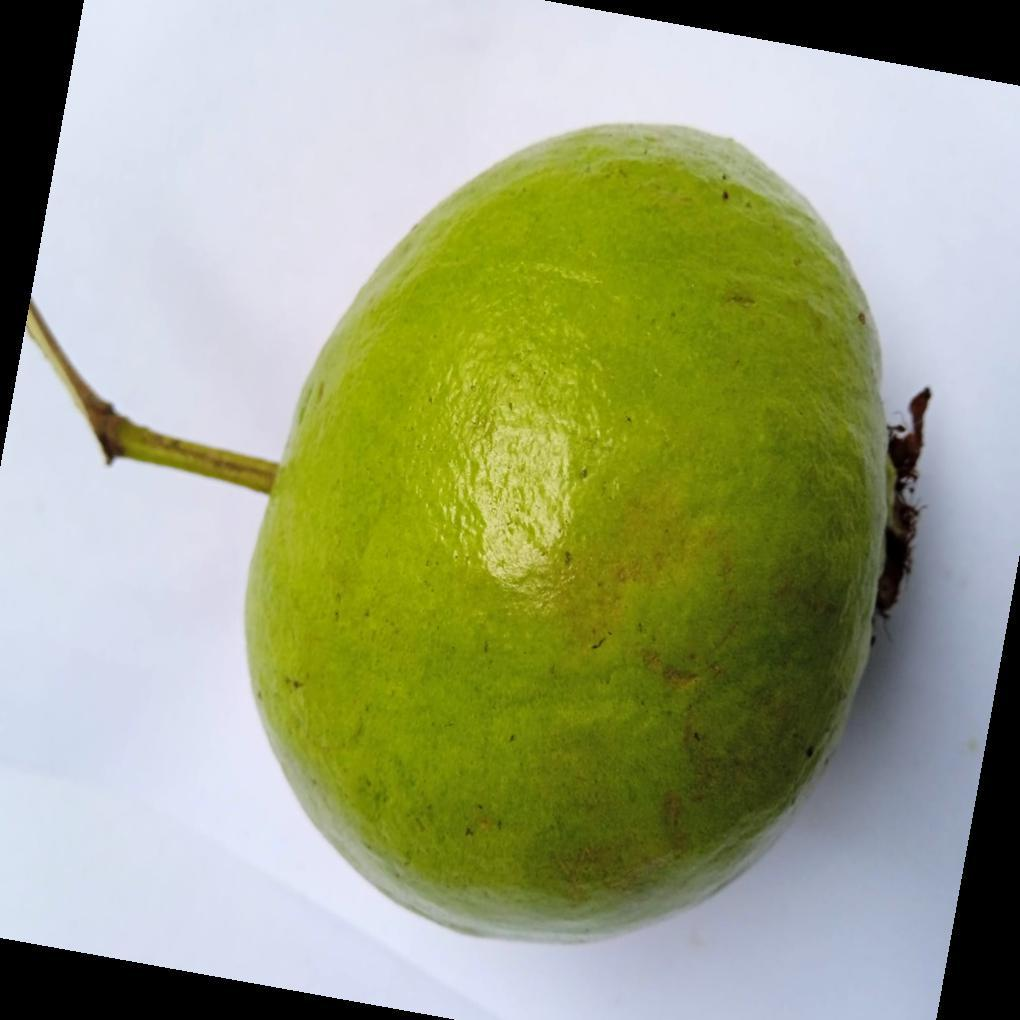FreshGuava: (241, 123, 900, 948)
